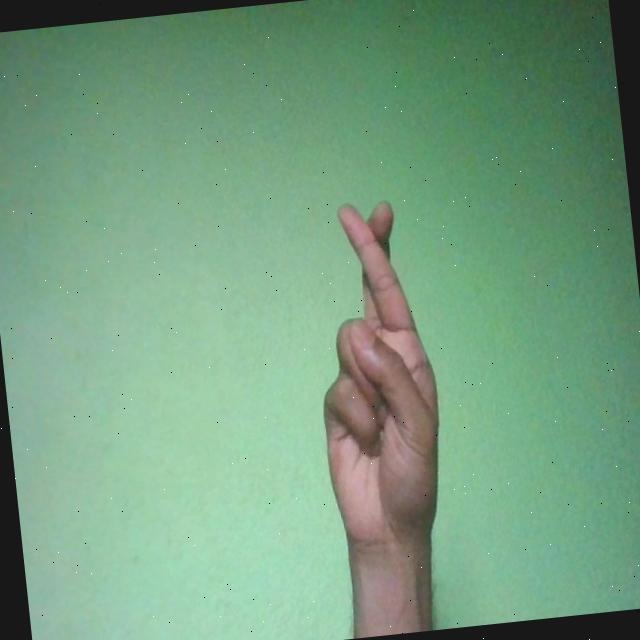Ok: (301, 194, 454, 560)
